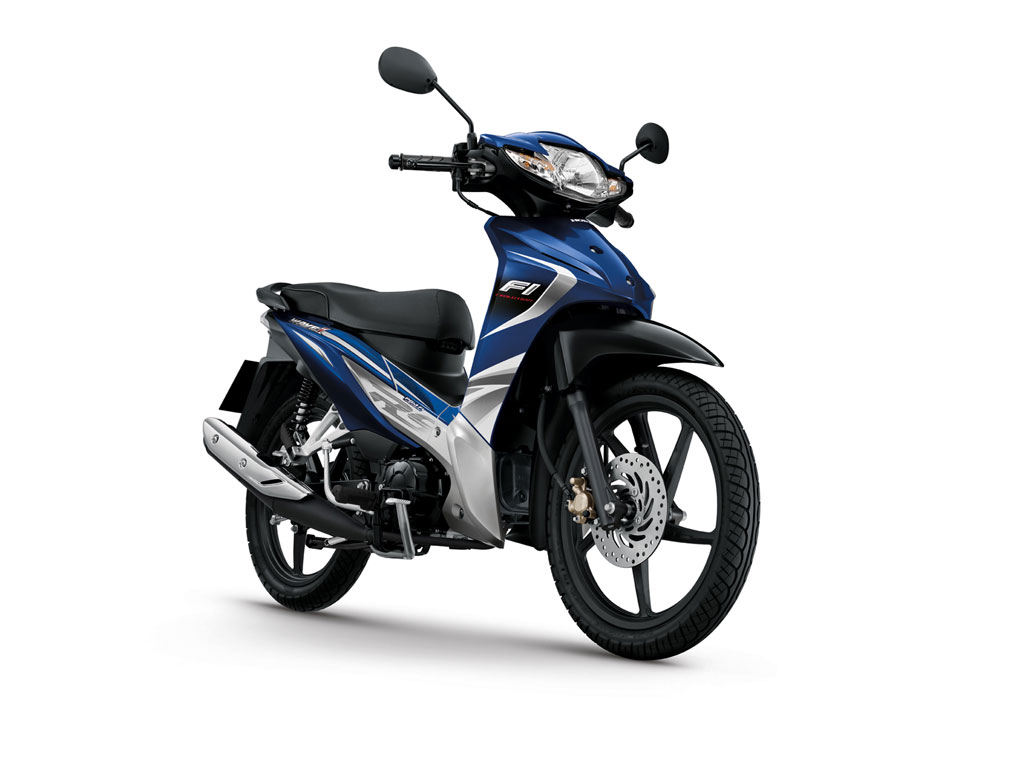motorcycle: (200, 46, 766, 662)
